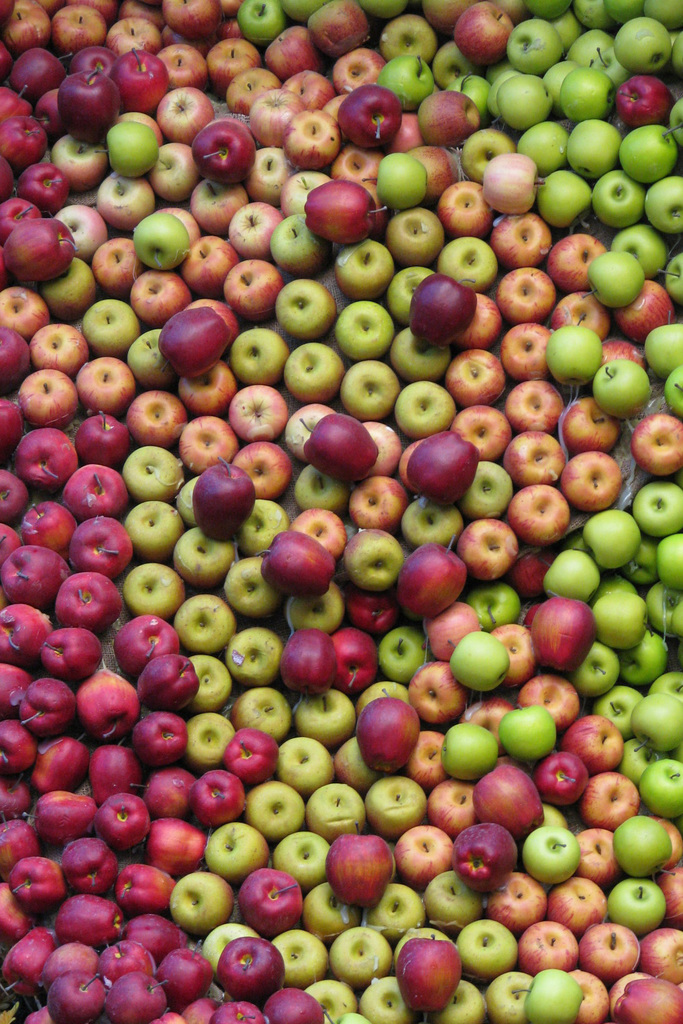Apple: (0, 0, 682, 1023), (325, 830, 396, 909), (396, 932, 462, 1011)
